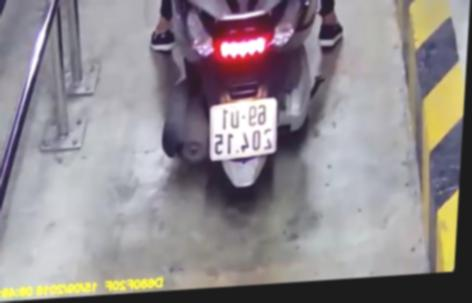License_Plate: (204, 93, 284, 169)
